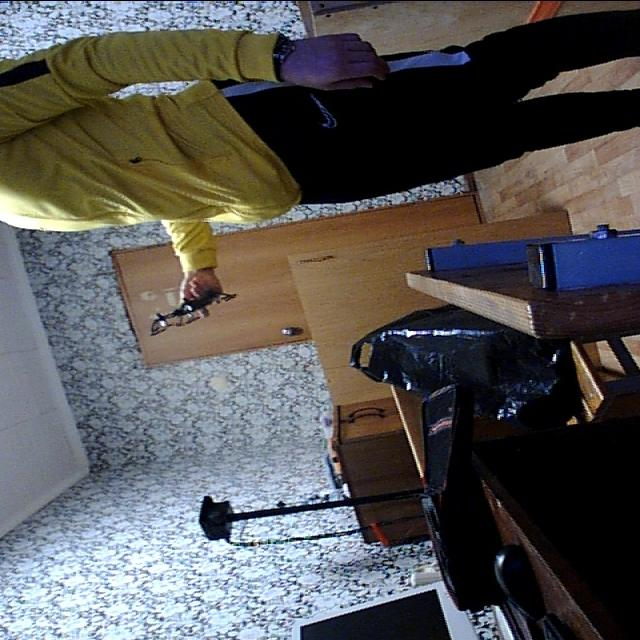drone: (142, 278, 248, 340)
